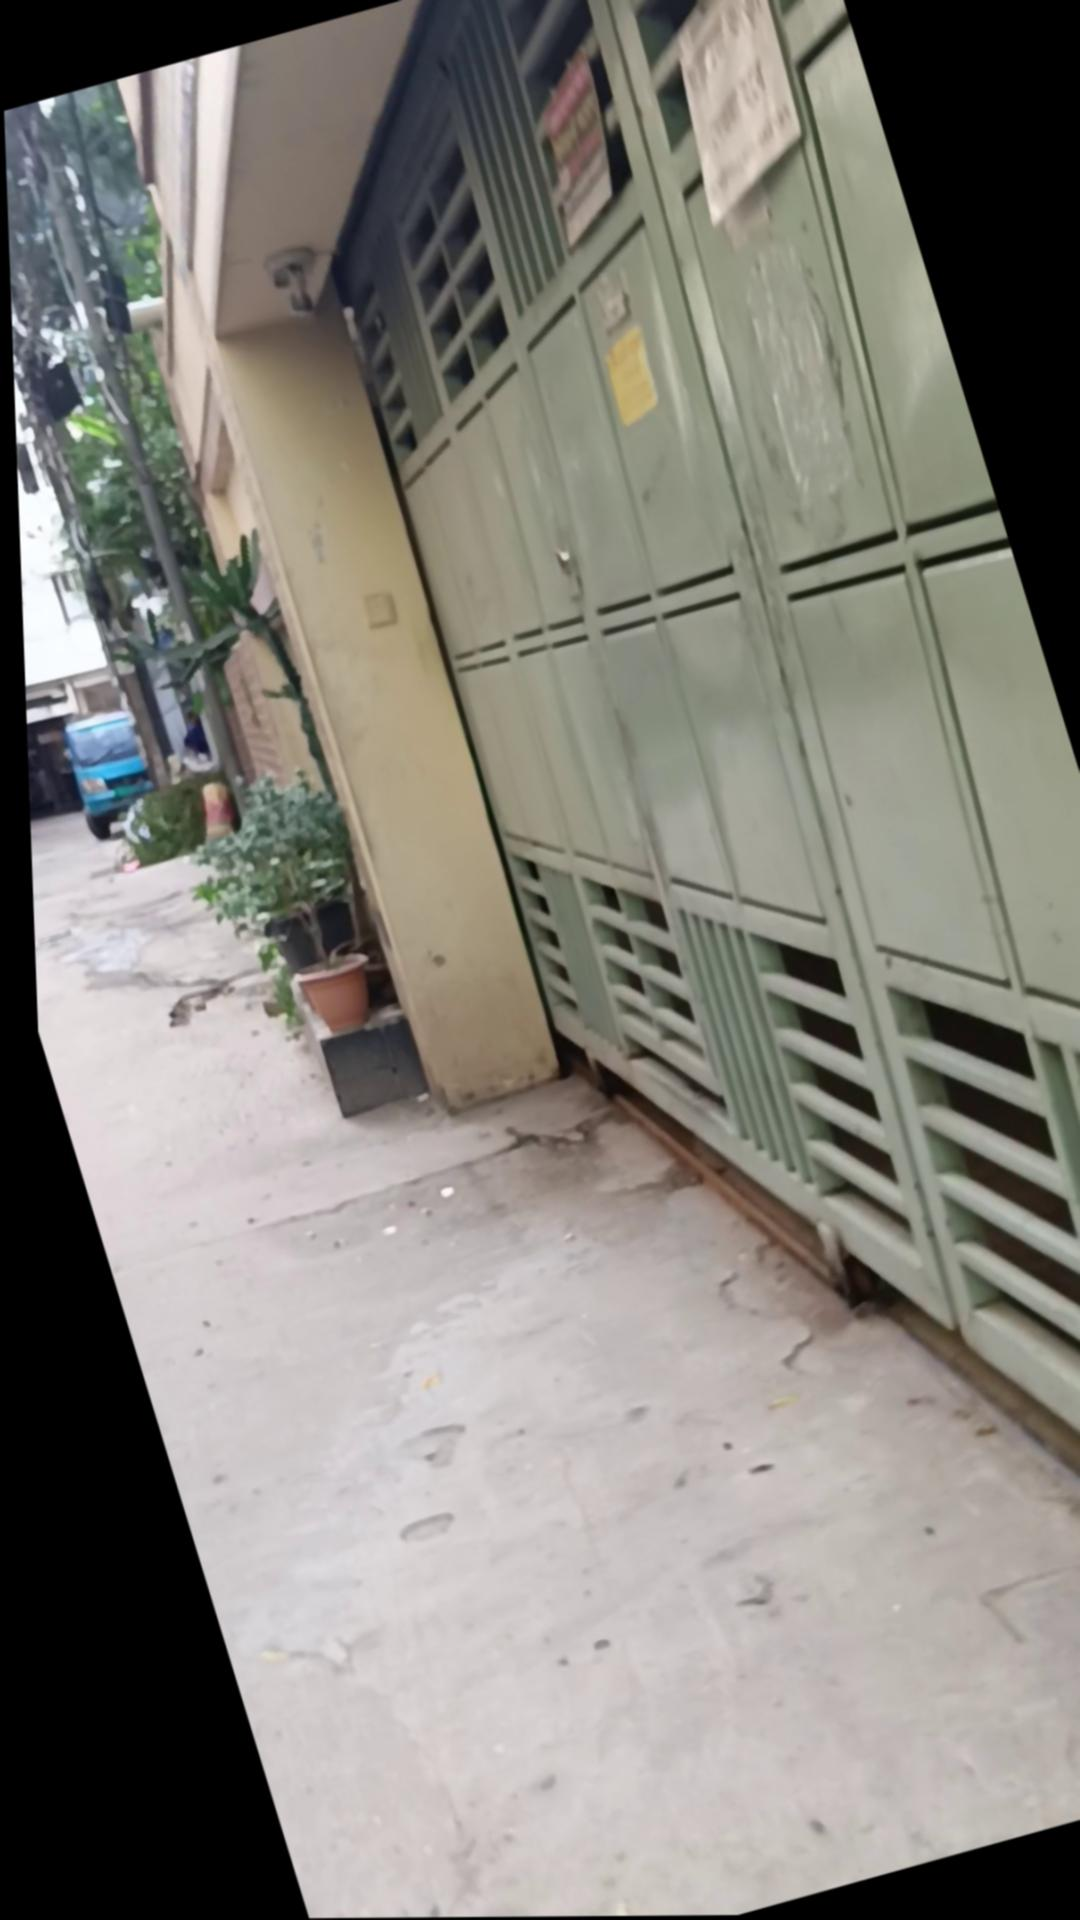Broken-road: (16, 554, 1080, 1920)
Crosswalk: (301, 1000, 424, 1121)
Muddy road: (167, 708, 206, 763)
Obstacle: (10, 104, 260, 832)
Pole: (152, 754, 398, 1063)
Traffic-sign: (47, 702, 161, 844)
